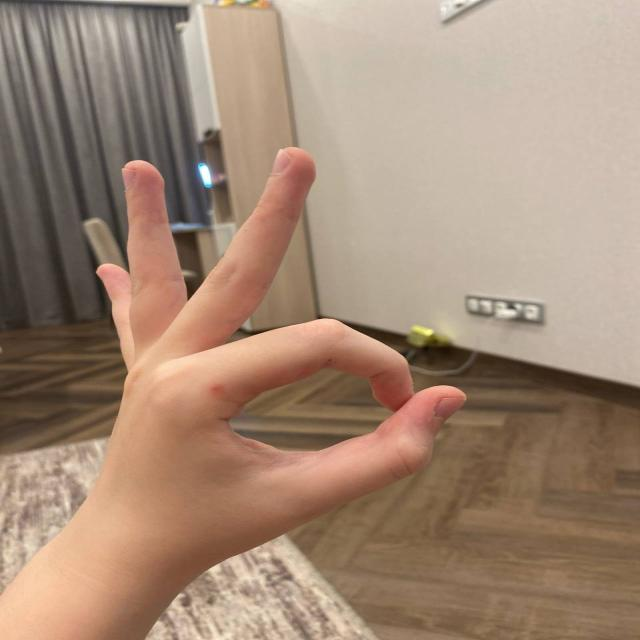o: (31, 133, 511, 590)
